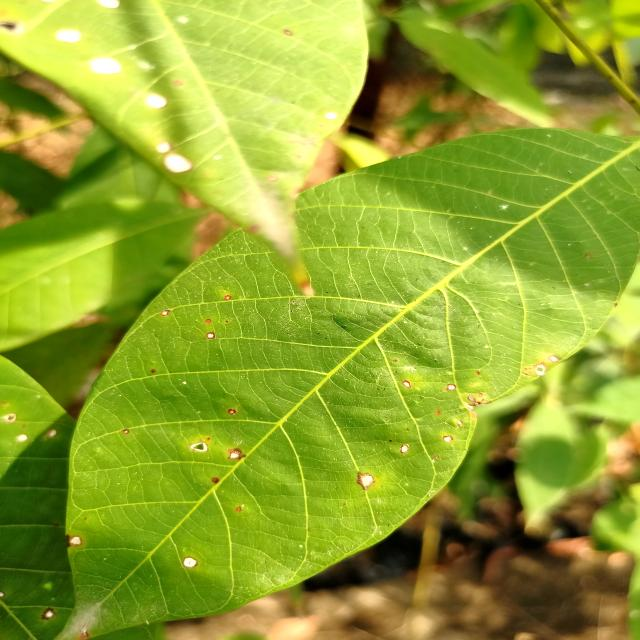Colletotrichum: (357, 473, 375, 489), (227, 448, 246, 461), (189, 442, 209, 452), (183, 556, 198, 568), (41, 608, 56, 620), (69, 536, 83, 546), (401, 444, 409, 454), (443, 435, 453, 442), (206, 332, 216, 339), (402, 380, 410, 388), (212, 477, 220, 484), (447, 384, 456, 390), (161, 310, 170, 316), (228, 409, 236, 415), (123, 428, 130, 434), (205, 318, 211, 324), (224, 296, 232, 300), (476, 372, 480, 375), (393, 360, 397, 362)
